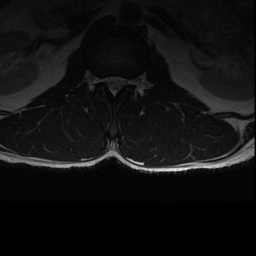CCS_normal: (110, 70, 117, 99)
LFS_stenosis: (125, 71, 133, 90)
LLS_stenosis: (120, 70, 127, 92)
RFS_stenosis: (97, 69, 104, 90)
RLS_stenosis: (104, 71, 110, 93)
